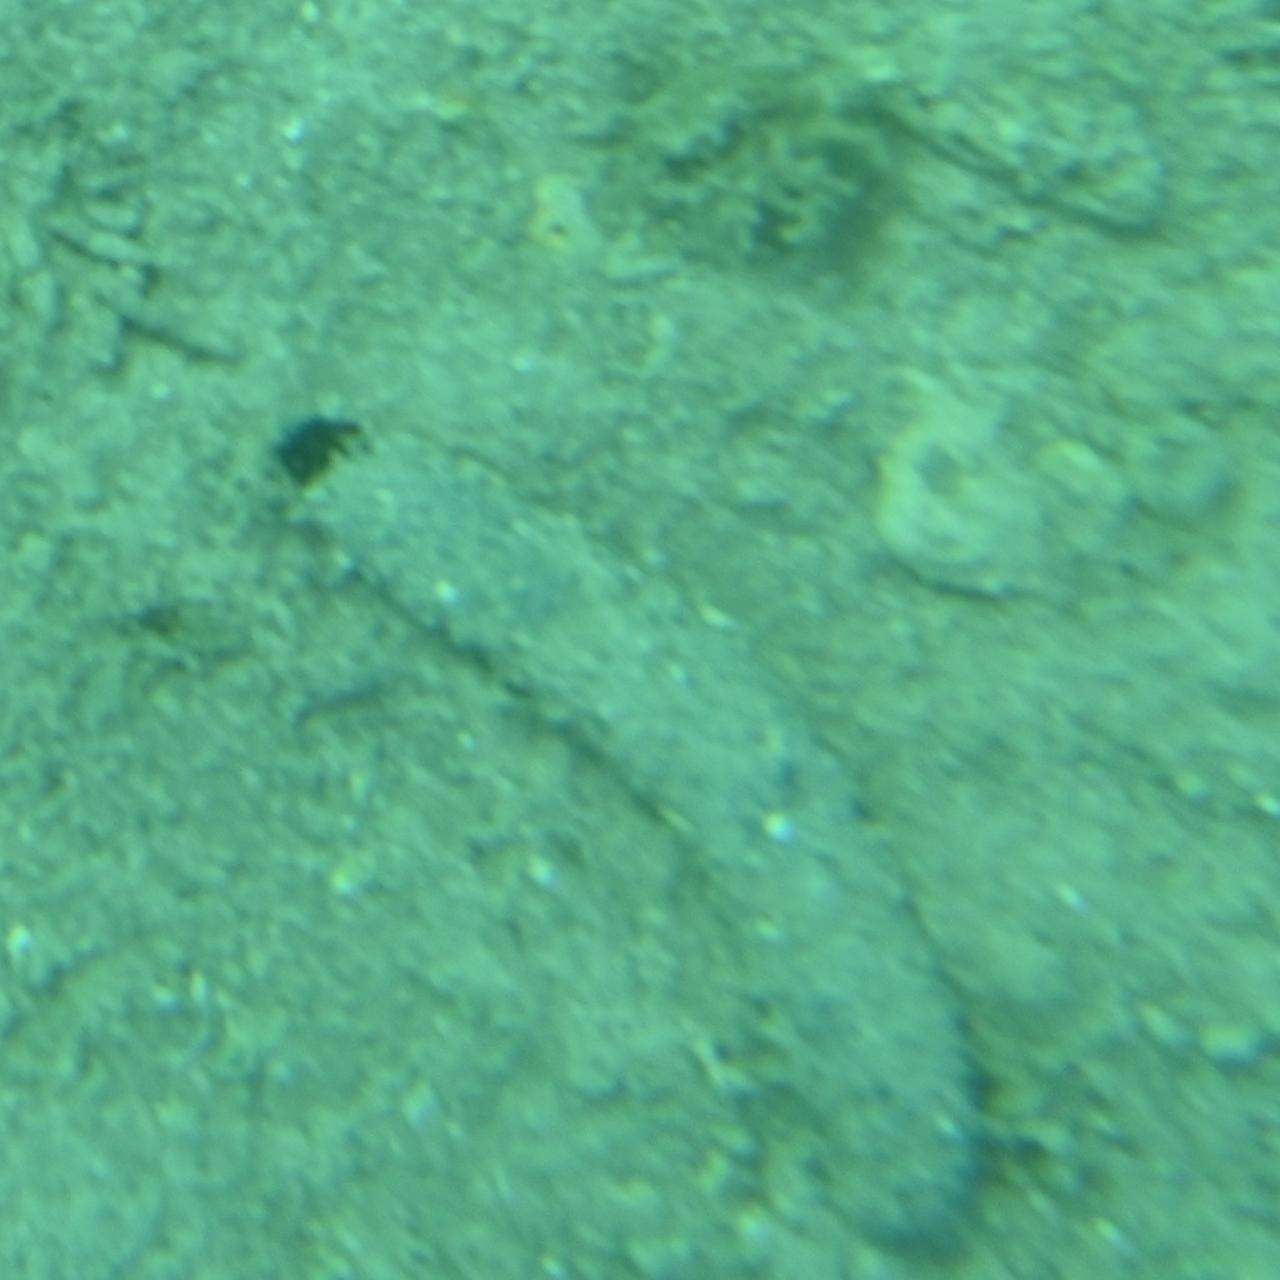Holothuria tubulosa: (279, 403, 1001, 1251)
